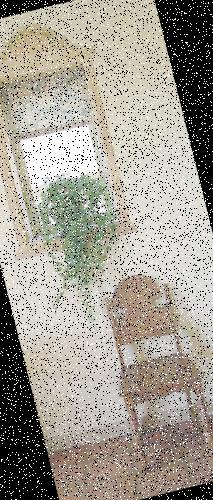Silla: (96, 267, 212, 470)
